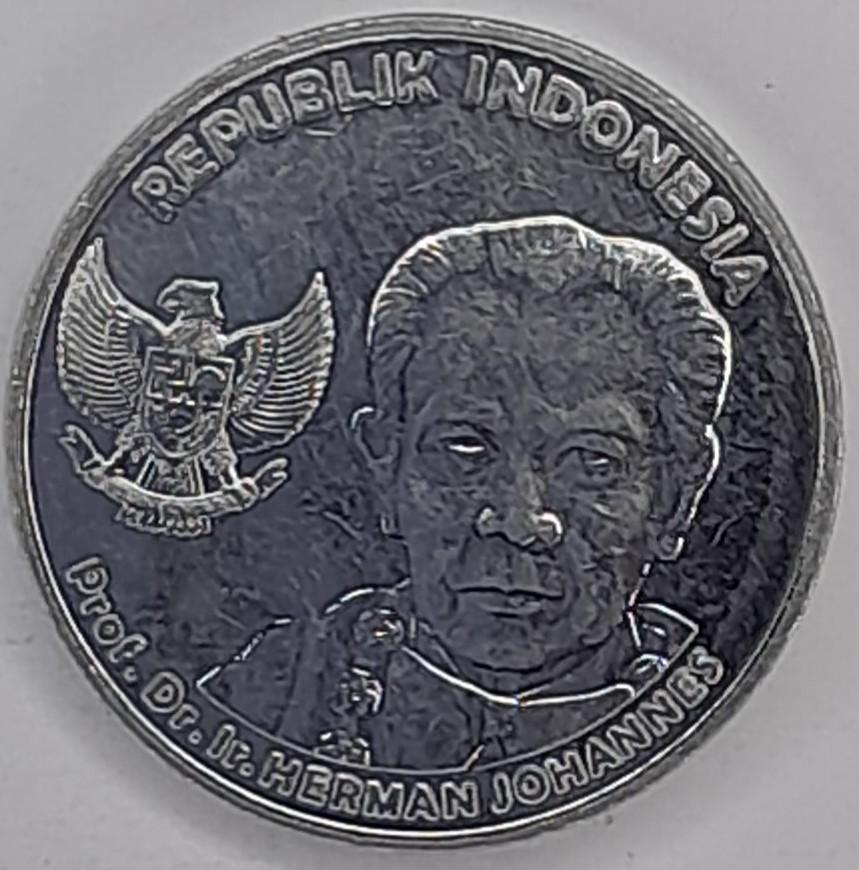coin_100_e2016: (1, 4, 850, 851)
